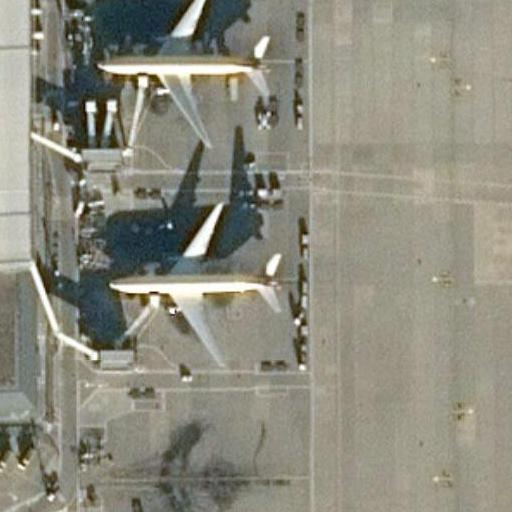Aircraft: (102, 195, 286, 371), (102, 199, 285, 368), (91, 0, 276, 150), (88, 0, 273, 149)
